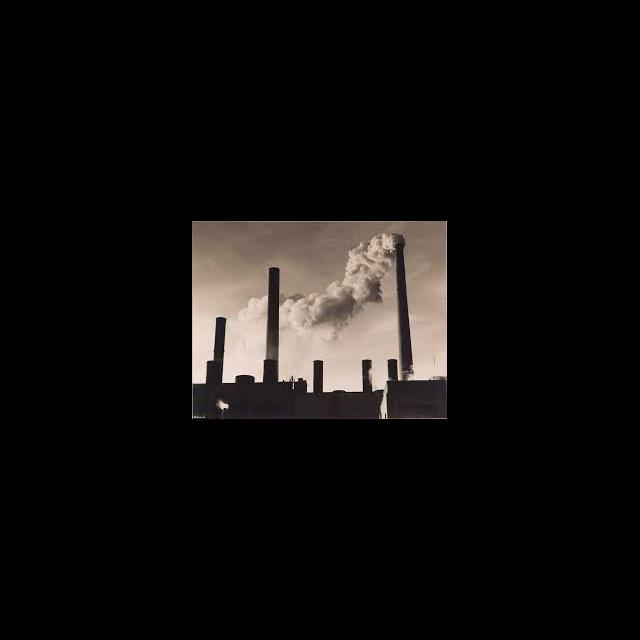Smoke: (294, 235, 392, 332)
